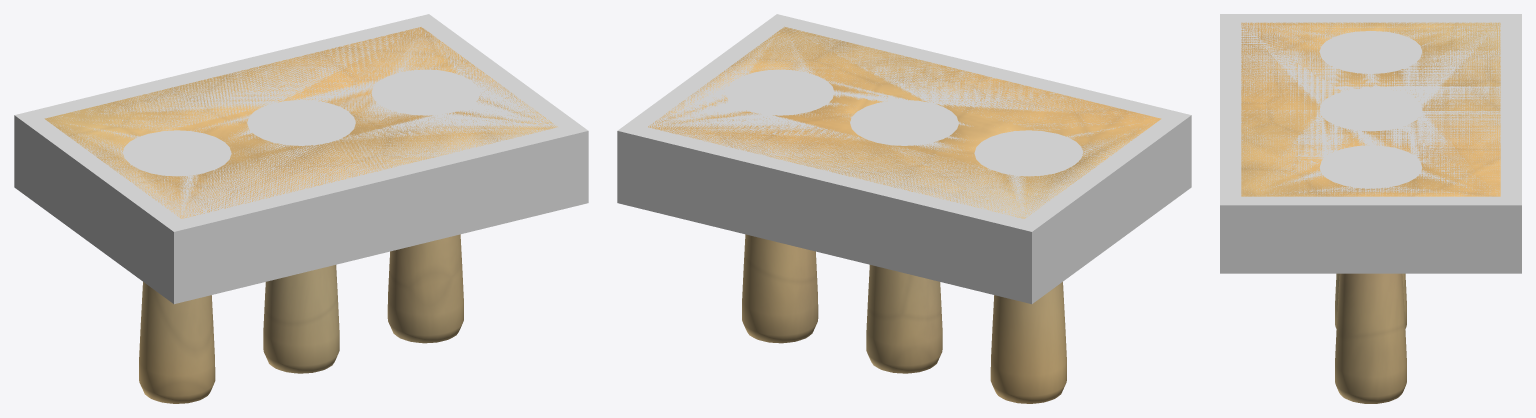
Rendered from SD_P12_SpikeTrap.fbx.
The picture shows the model from 3 angles, left to right: view 1: azimuth 30°, elevation 25°; view 2: azimuth 150°, elevation 25°; view 3: azimuth 270°, elevation 25°; orthographic projection. The views are drawn at different scales.
Parts seen in each view (by area): view 1: COL_Base, Base, Spike_01, Spike_02, Spike_03; view 2: COL_Base, Base, Spike_01, Spike_02, Spike_03; view 3: COL_Base, Base, Spike_03, Spike_02.
Part boxes in pixels (x1,y1,x2,y2): COL_Base: (14,14,588,304); Base: (44,27,557,218); Spike_01: (139,282,215,403); Spike_02: (263,265,339,373); Spike_03: (387,234,463,343); COL_Base: (617,14,1191,304); Base: (648,26,1161,218); Spike_01: (990,282,1066,403); Spike_02: (866,265,942,373); Spike_03: (742,234,818,343); COL_Base: (1220,14,1521,273); Base: (1241,22,1500,196); Spike_03: (1335,273,1406,403); Spike_02: (1335,273,1406,328).
Bounding box in the file's own units: 1.5 × 0.83 × 1.
